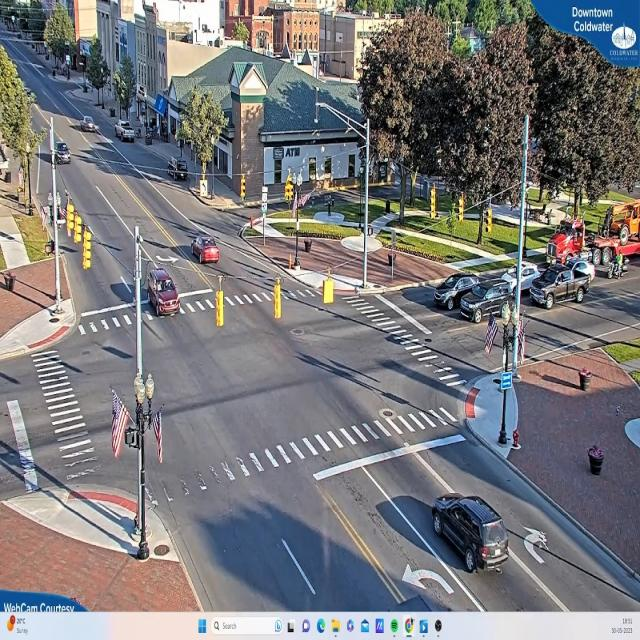car: (434, 494, 512, 574), (530, 256, 591, 309), (460, 282, 516, 324), (143, 273, 181, 319), (433, 270, 468, 309), (502, 264, 543, 292), (192, 237, 221, 264), (54, 142, 71, 164), (117, 125, 137, 143)
